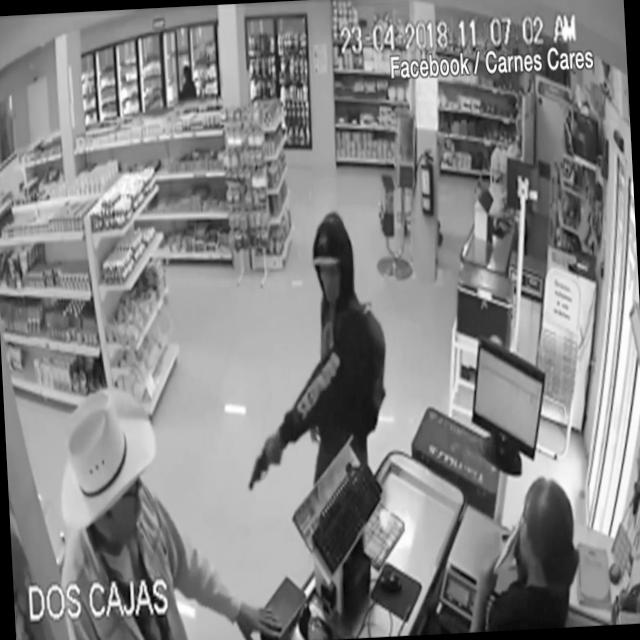gun: (243, 426, 288, 496)
person: (60, 393, 163, 594), (501, 474, 580, 624)
person with a gun: (232, 204, 391, 497)
